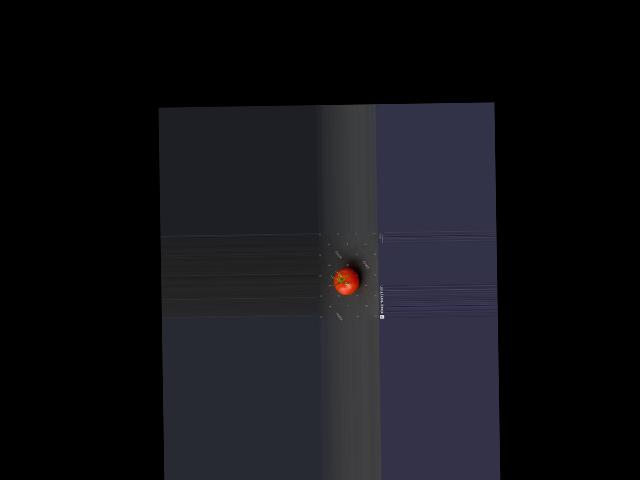tomato: (333, 267, 358, 295)
